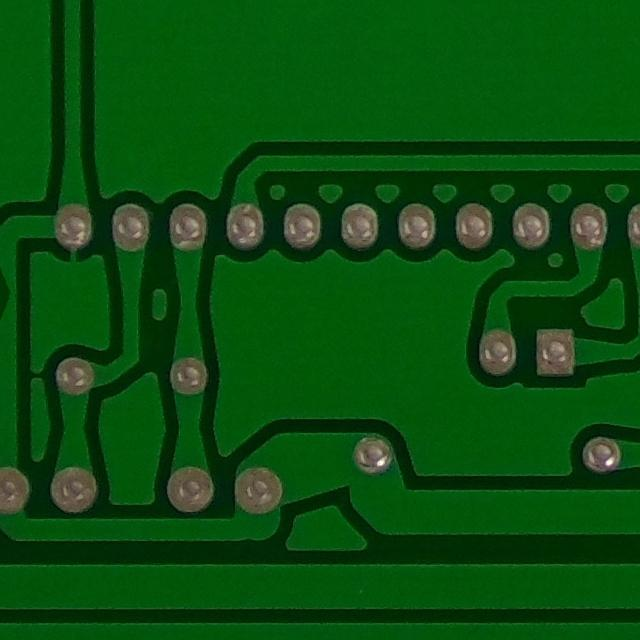mouse_bite: (0, 251, 25, 343)
